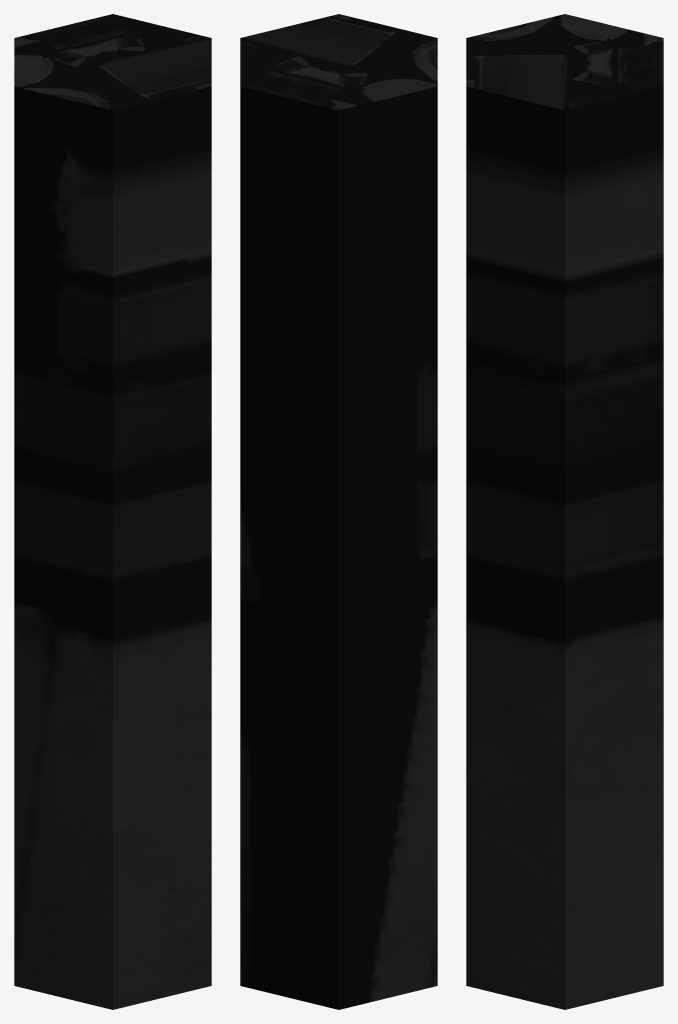
Rendered from fdxest_p6_console_chair_base_lod1.glb.
The picture shows the model from 3 angles, left to right: view 1: azimuth 30°, elevation 25°; view 2: azimuth 150°, elevation 25°; view 3: azimuth 270°, elevation 25°; orthographic projection.
Visible parts, largest first — view 1: surf0; view 2: surf0; view 3: surf0.
Boxes of the visible parts, x1,y1,x2,y2 form: surf0: (14,14,211,1009); surf0: (240,14,437,1009); surf0: (466,14,663,1009).
Size of the model in its own units: 4.64 by 20.2 by 4.02.
